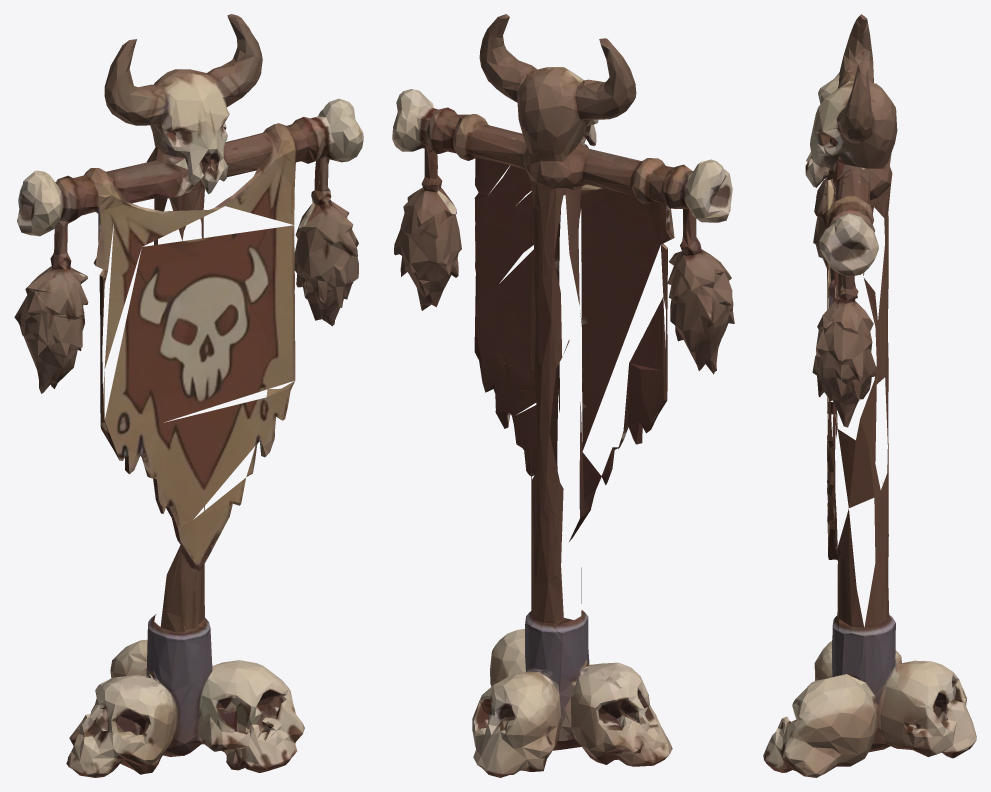
File: war_banner.glb
The picture shows the model from 3 angles, left to right: view 1: azimuth 30°, elevation 25°; view 2: azimuth 150°, elevation 25°; view 3: azimuth 270°, elevation 25°; orthographic projection. The views are drawn at different scales.
Parts seen in each view (by area): view 1: geometry_0; view 2: geometry_0; view 3: geometry_0.
Part boxes in pixels (box(x1,y1,x2,y2)): geometry_0: box(14, 14, 363, 777); geometry_0: box(392, 14, 734, 777); geometry_0: box(763, 14, 976, 777).
Size of the model in its own units: 1.07 by 2.2 by 0.5995.
1 material, 1 textured.
